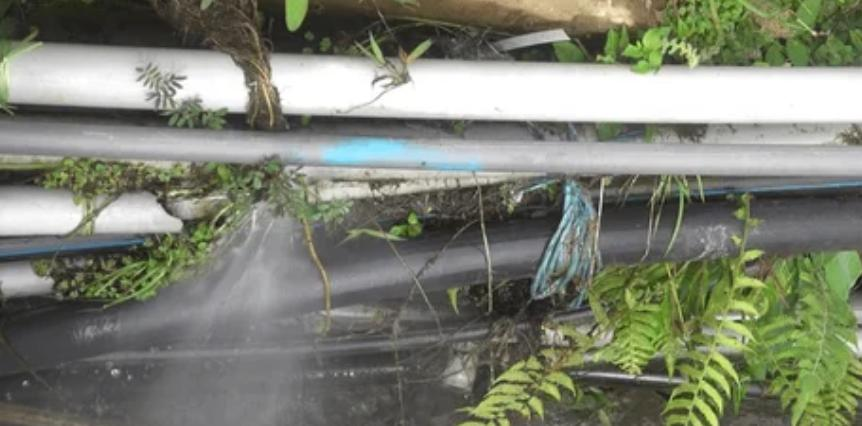pipe burst: (116, 199, 322, 426)
